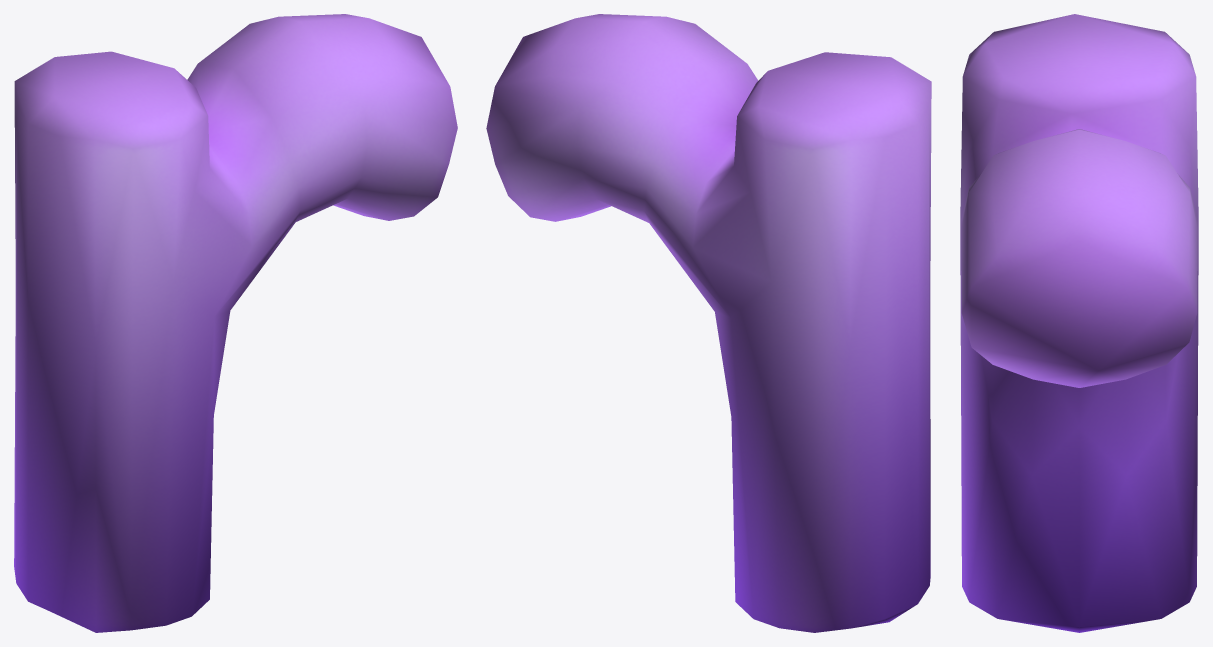
3 renders of one model, left to right at view 1: azimuth 30°, elevation 25°; view 2: azimuth 150°, elevation 25°; view 3: azimuth 270°, elevation 25°, orthographic. The views are drawn at different scales.
Visible parts, largest first — view 1: Processed_Mesh0_Geometry; view 2: Processed_Mesh0_Geometry; view 3: Processed_Mesh0_Geometry.
Part boxes in pixels (<box>): Processed_Mesh0_Geometry: <box>14,14,457,632</box>; Processed_Mesh0_Geometry: <box>486,14,931,632</box>; Processed_Mesh0_Geometry: <box>960,14,1198,632</box>.
Size of what is drawn, in the model's own units: 0.0431 by 0.0557 by 0.0211.
Materials: 1 (1 with a texture image).
